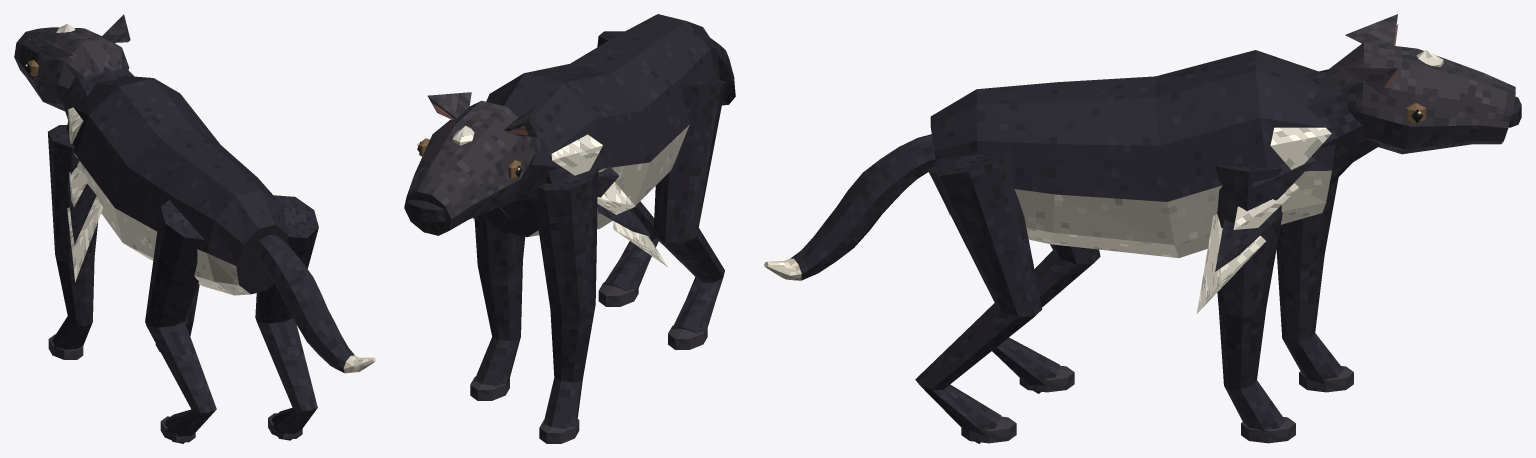
File: mon_dog_bcollie.glb
The picture shows the model from 3 angles, left to right: view 1: azimuth 30°, elevation 25°; view 2: azimuth 150°, elevation 25°; view 3: azimuth 270°, elevation 25°; orthographic projection. The views are drawn at different scales.
Parts seen in each view (by area): view 1: closed_body; view 2: closed_body; view 3: closed_body.
Boxes of the visible parts, x1,y1,x2,y2 form: closed_body: (14,14,375,443); closed_body: (404,14,735,443); closed_body: (764,14,1521,443).
Bounding box in the file's own units: 0.459 × 0.7796 × 1.42.
1 material, 1 textured.
